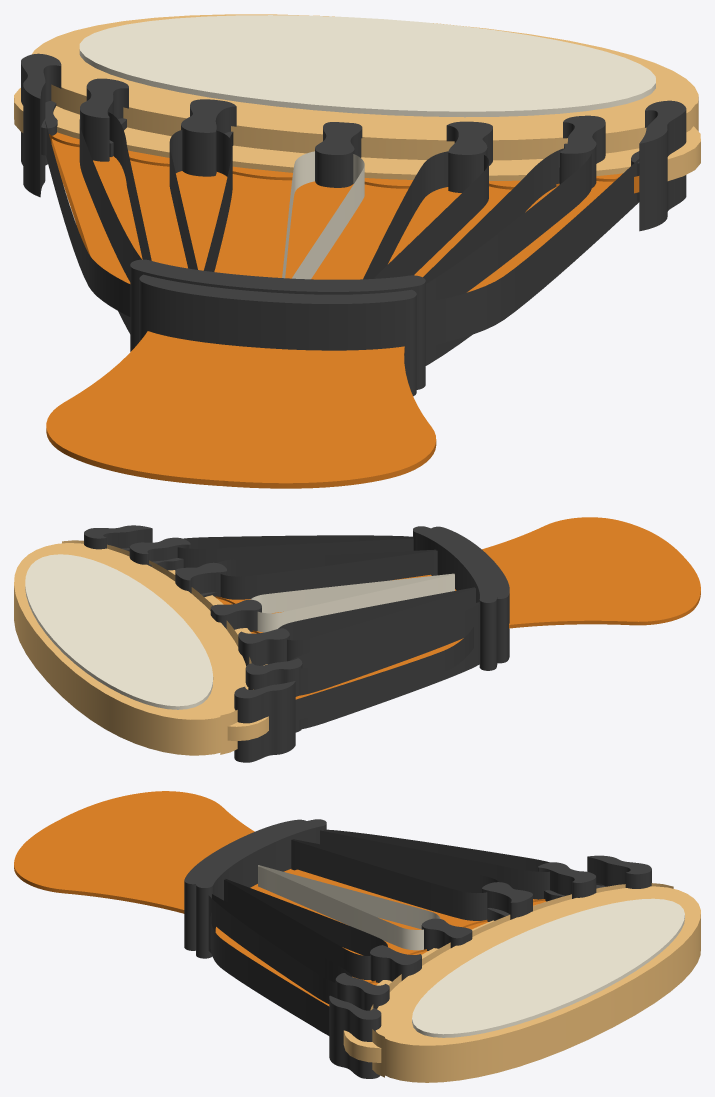
Rendered from emoji_u1fa98.glb.
3 views of the same model, one above another, from view 1: azimuth 30°, elevation 25°; view 2: azimuth 150°, elevation 25°; view 3: azimuth 270°, elevation 25° (orthographic). The views are drawn at different scales.
Parts seen in each view (by area): view 1: emoji_u1fa98; view 2: emoji_u1fa98; view 3: emoji_u1fa98.
Part boxes in pixels (box(x1,y1,x2,y2)): emoji_u1fa98: box(14, 14, 700, 488); emoji_u1fa98: box(14, 517, 700, 762); emoji_u1fa98: box(14, 791, 700, 1082).
Bounding box in the file's own units: 0.0314 × 0.0038 × 0.0336.
